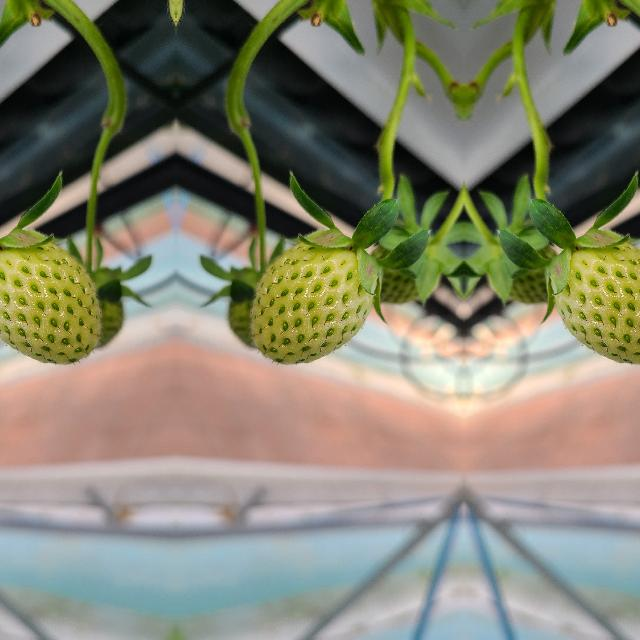Health_25: (251, 242, 371, 364), (0, 242, 99, 363), (555, 242, 640, 363)
